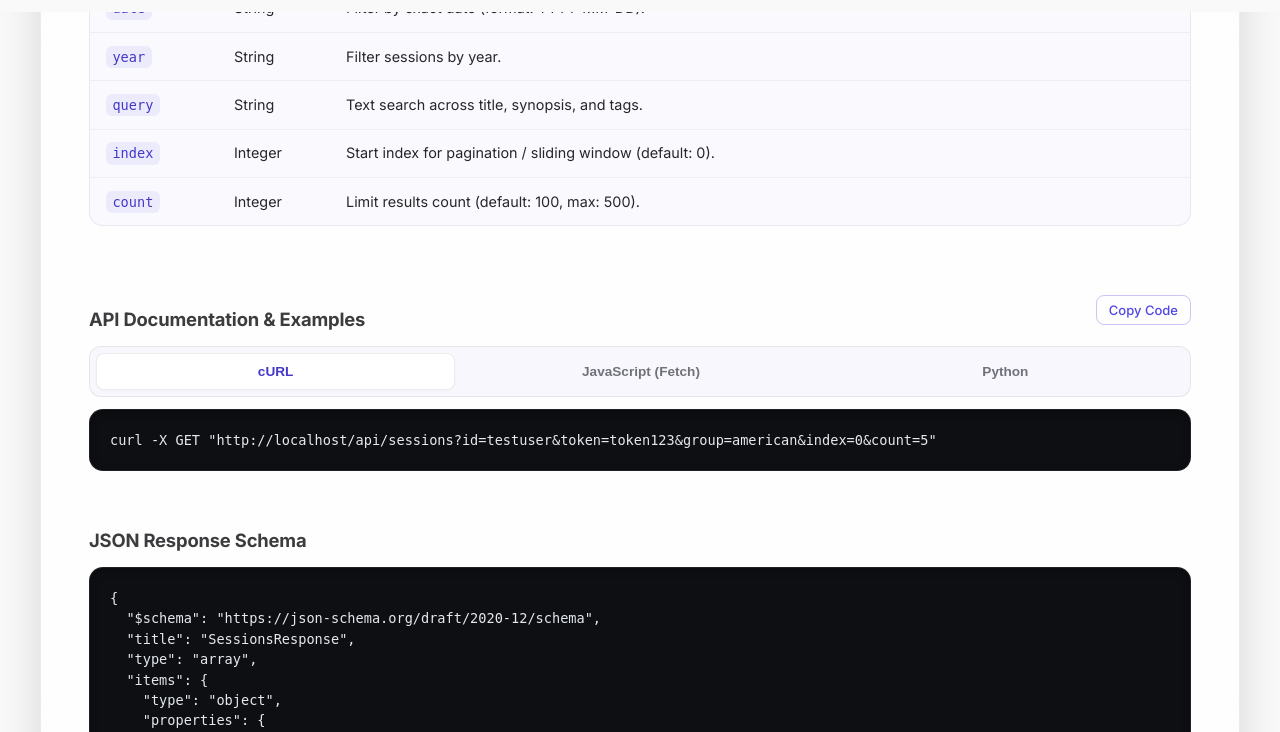
it: API View › switches tabs when tab buttons are clicked
Check: the button "cURL" is shown, box [96,354,455,390]
Note: Switch to JavaScript Tab
Click the button "JavaScript (Fetch)" at (641, 372), box [463,354,819,390]
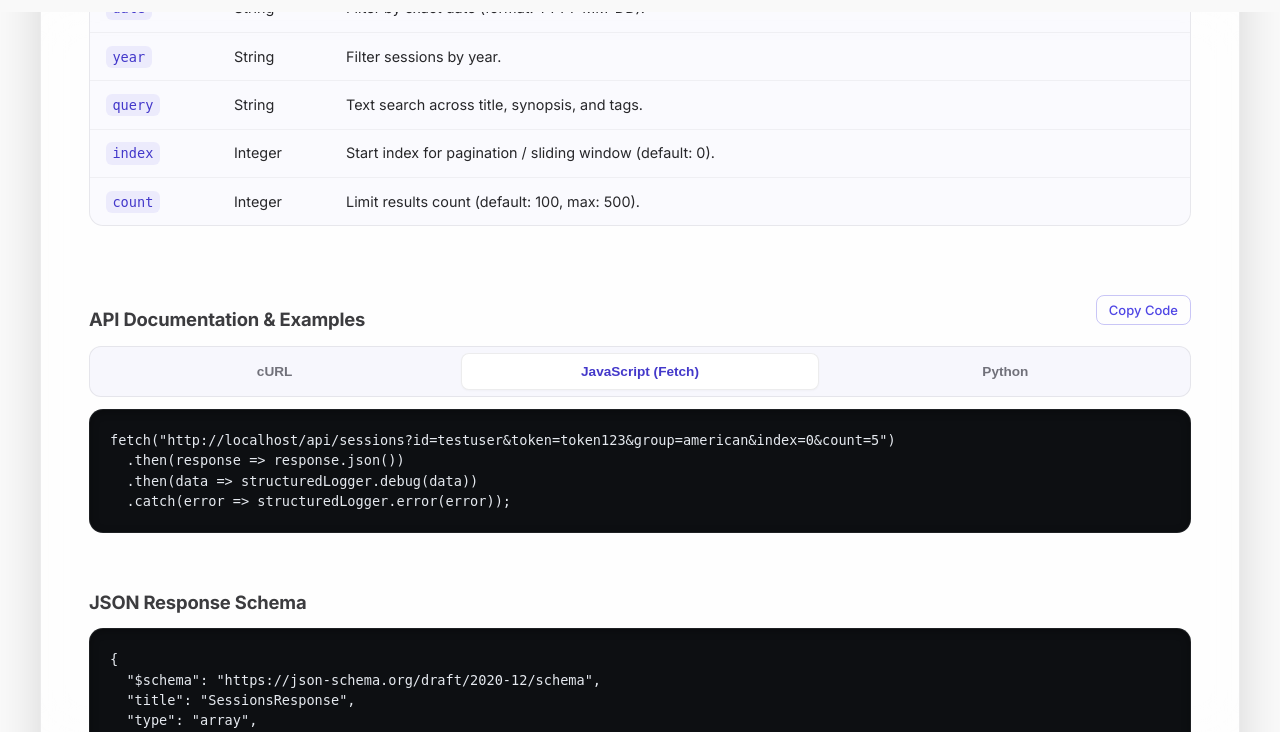
Check: the text "fetch(\"http://localhost/api/sessions" is shown, box [110,432,896,509]
Note: Switch to Python Tab
Click the button "Python" at (1005, 372), box [827,354,1184,390]
(page scrolled)
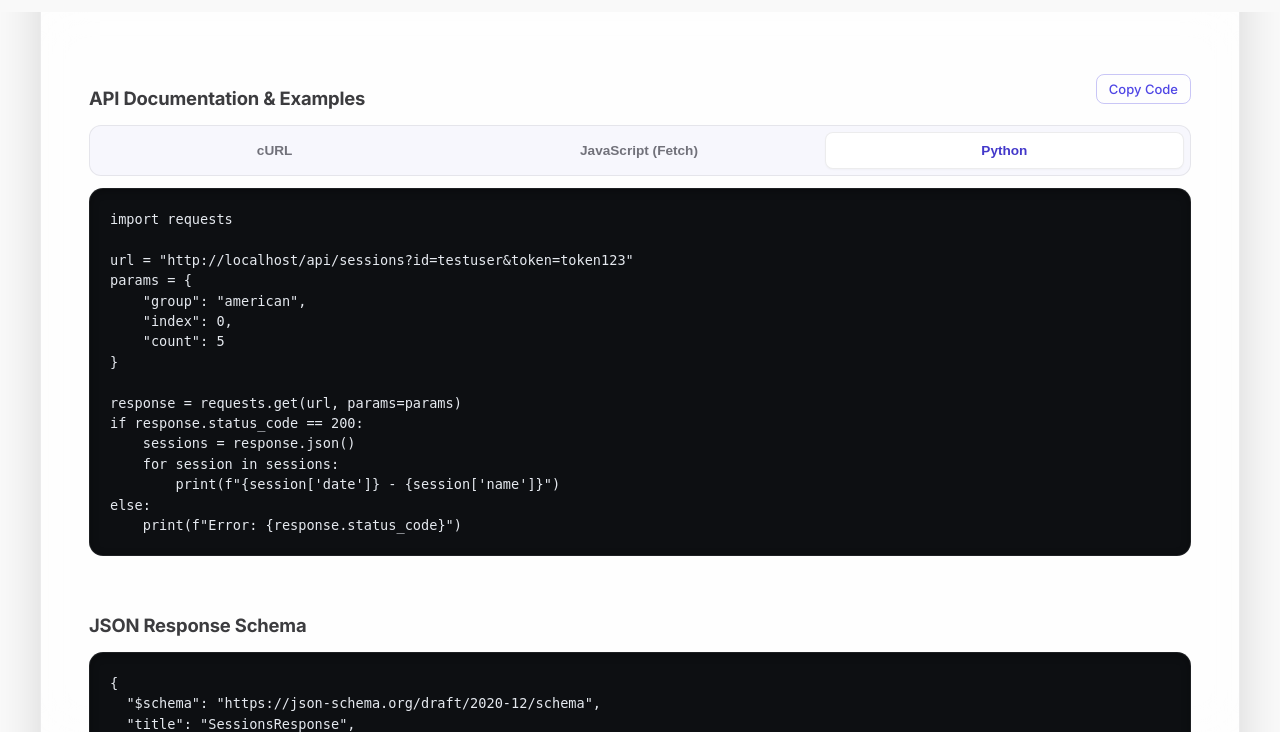
Check: the text "requests.get(url" is shown, box [110,211,634,533]
